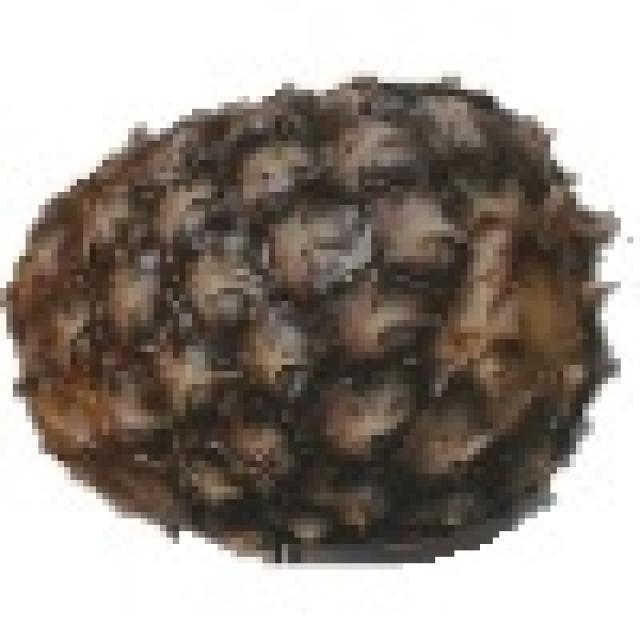pineapple: (0, 70, 602, 544)
